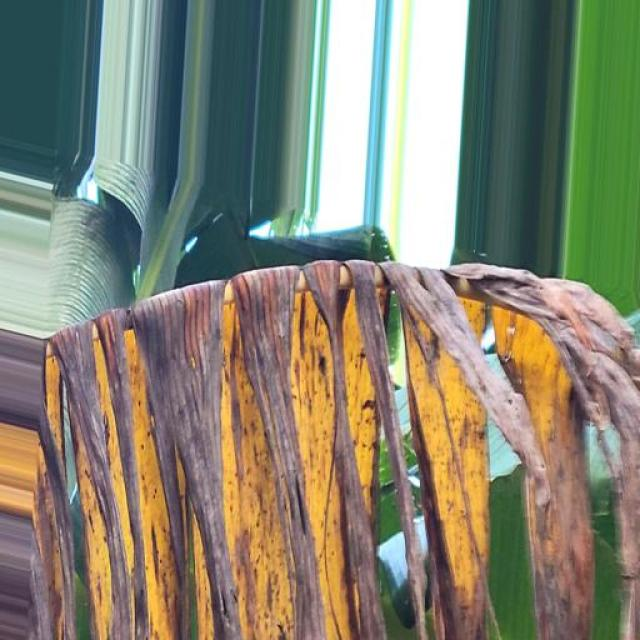Cordana: (29, 253, 640, 640)
